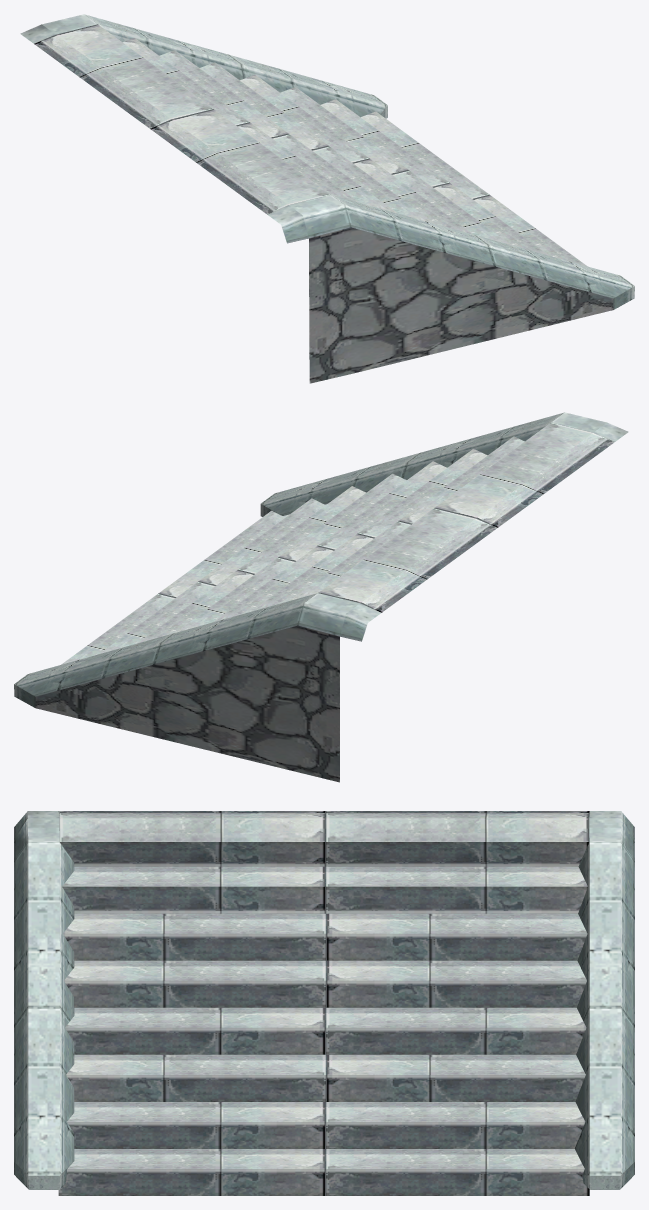
The picture shows the model from 3 angles, top to bottom: view 1: azimuth 30°, elevation 25°; view 2: azimuth 150°, elevation 25°; view 3: azimuth 270°, elevation 25°; orthographic projection. The views are drawn at different scales.
Parts seen in each view (by area): view 1: geom_node_0; view 2: geom_node_0; view 3: geom_node_0.
Boxes of the visible parts, x1=… form: geom_node_0: x1=20, y1=14, x2=634, y2=383; geom_node_0: x1=14, y1=412, x2=628, y2=782; geom_node_0: x1=14, y1=811, x2=634, y2=1195.
Size of the model in its own units: 4.43 by 2.09 by 5.91.
Materials: 1 (1 with a texture image).
